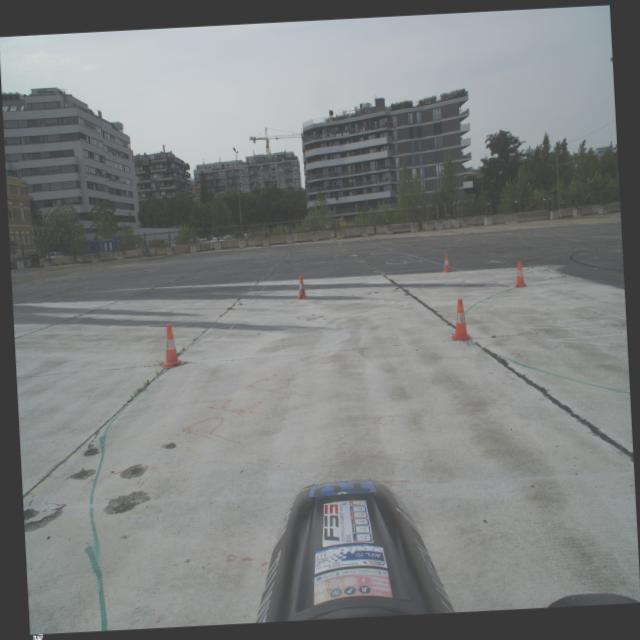orange_cone: (158, 324, 184, 369), (448, 298, 472, 342), (512, 261, 528, 288), (294, 274, 309, 300), (440, 254, 450, 273)
